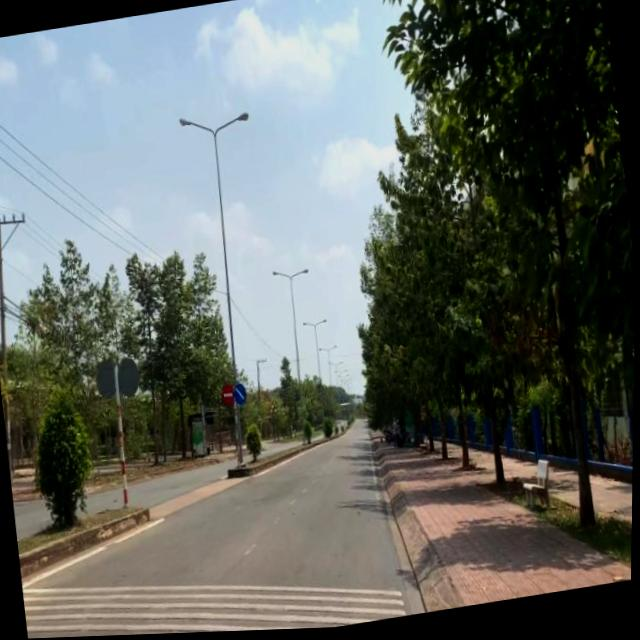Cam di nguoc chieu: (222, 385, 236, 408)
Vong chuong ngai vat sang phai: (233, 383, 249, 408)
